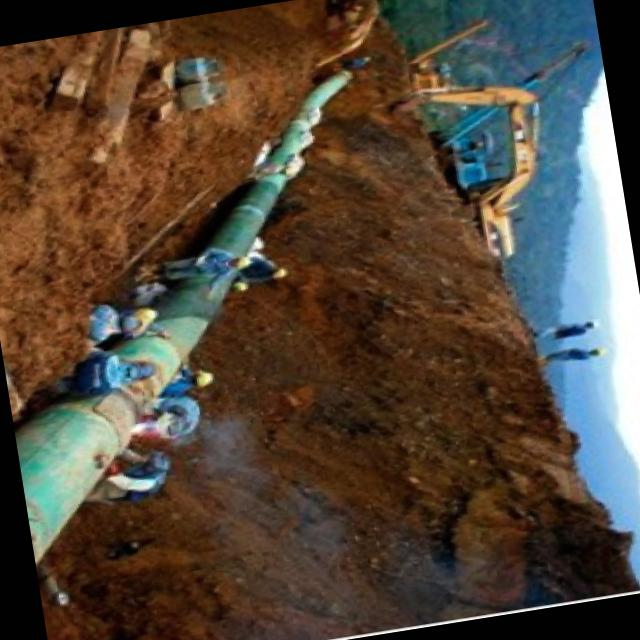gas: (15, 69, 351, 565)
